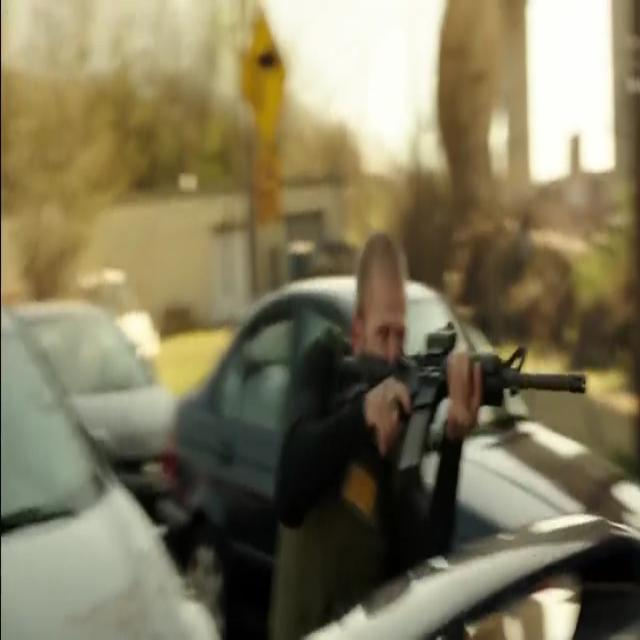Weapon: (327, 337, 600, 461)
